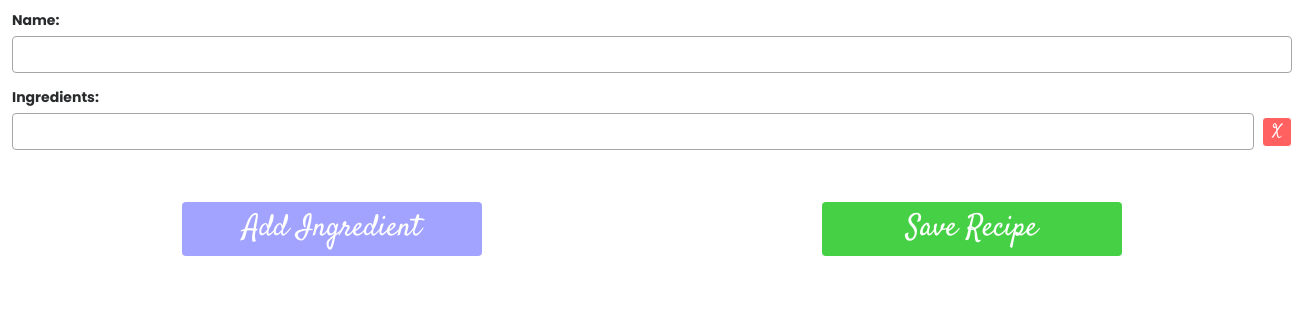
Scenario: <RecipeForm /> › prevents empty submits and show errors
Click the button with test id "submit-button" at (972, 229), box [822,202,1122,256]
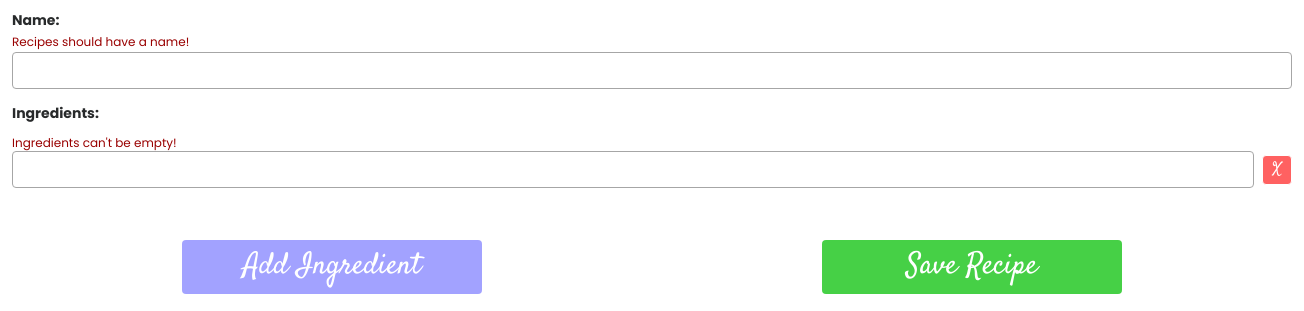
Expected: the message with test id "name-error-message" reads "Recipes should have a name!", [12,33,189,50]
Expected: the message with test id "ingredients-0-error-message" reads "Ingredients can't be empty!", [12,134,177,151]
